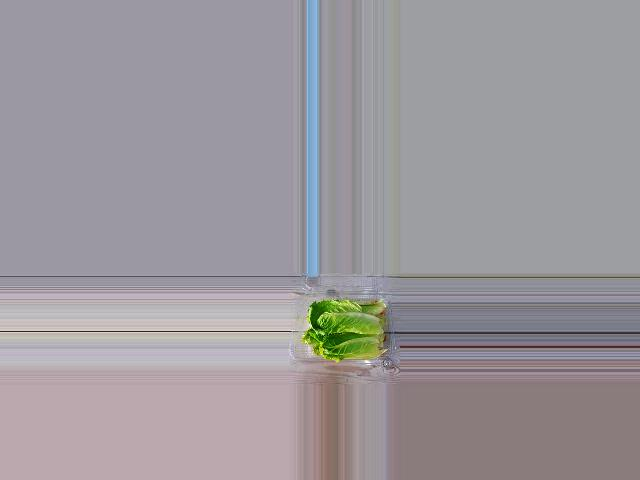lettuce: (302, 299, 382, 361)
